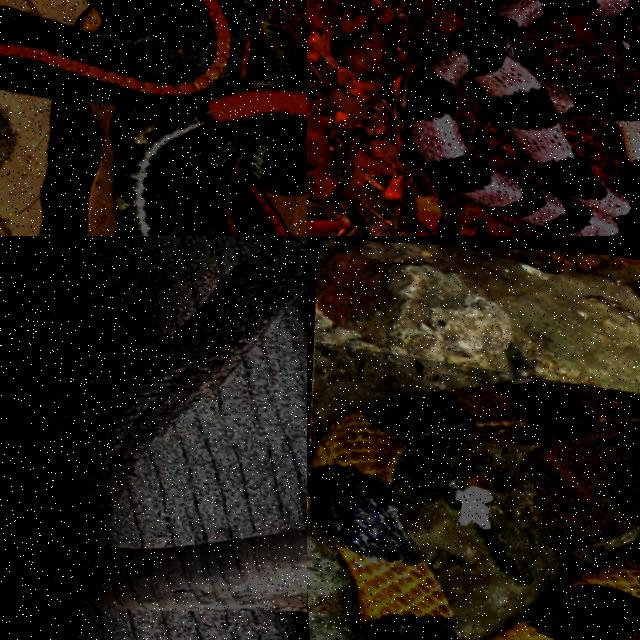Bungarus candidus: (405, 0, 639, 235)
Bungarus fasciatus: (309, 383, 639, 639)
Calliophis intestinalis: (0, 0, 306, 235)
Naja kaouthia: (22, 238, 306, 613)
snake: (22, 238, 306, 613), (309, 383, 639, 639), (0, 0, 306, 235), (405, 0, 639, 235)
